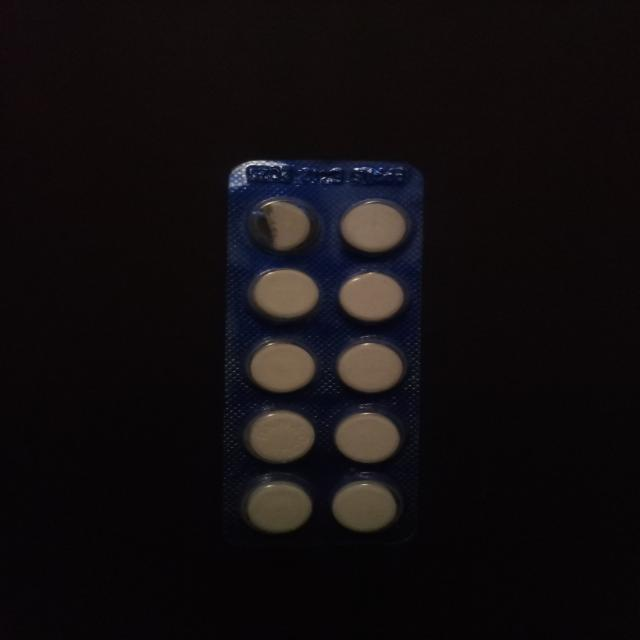defect: (242, 193, 322, 257)
